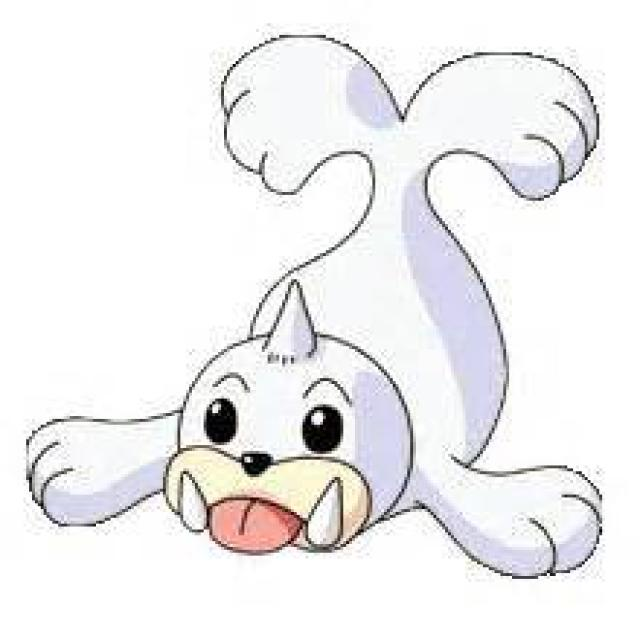Seel: (136, 130, 640, 593)
